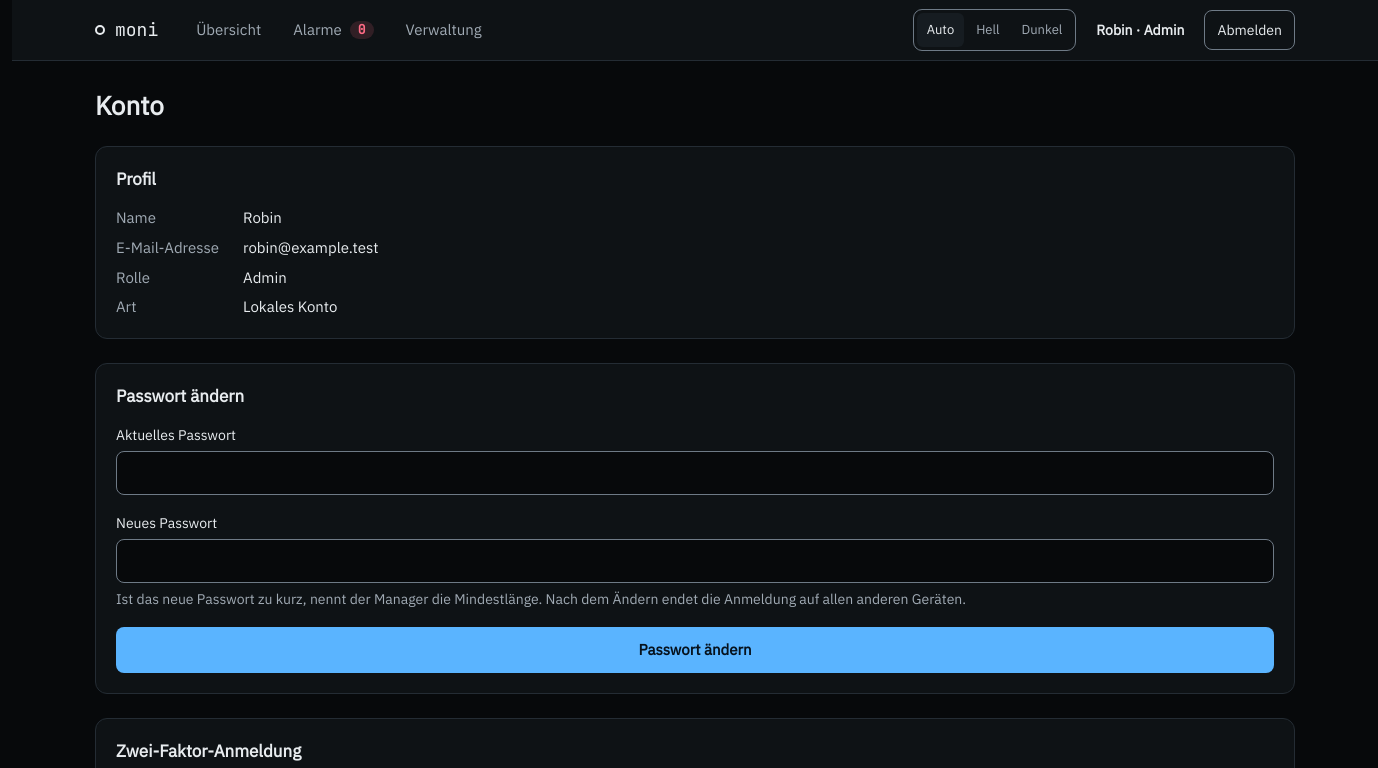
Test case: Konto › falsches aktuelles Passwort und zu kurzes neues zeigen den Fehlertext, keine Abmeldung
The width and height of the screenshot is (1378, 768).
Expected: the heading "Konto" is shown, [95, 88, 164, 122]
Type "falsch" into the password field labelled "Aktuelles Passwort".
click(695, 473); type("falsch")  # box [116, 451, 1274, 495]
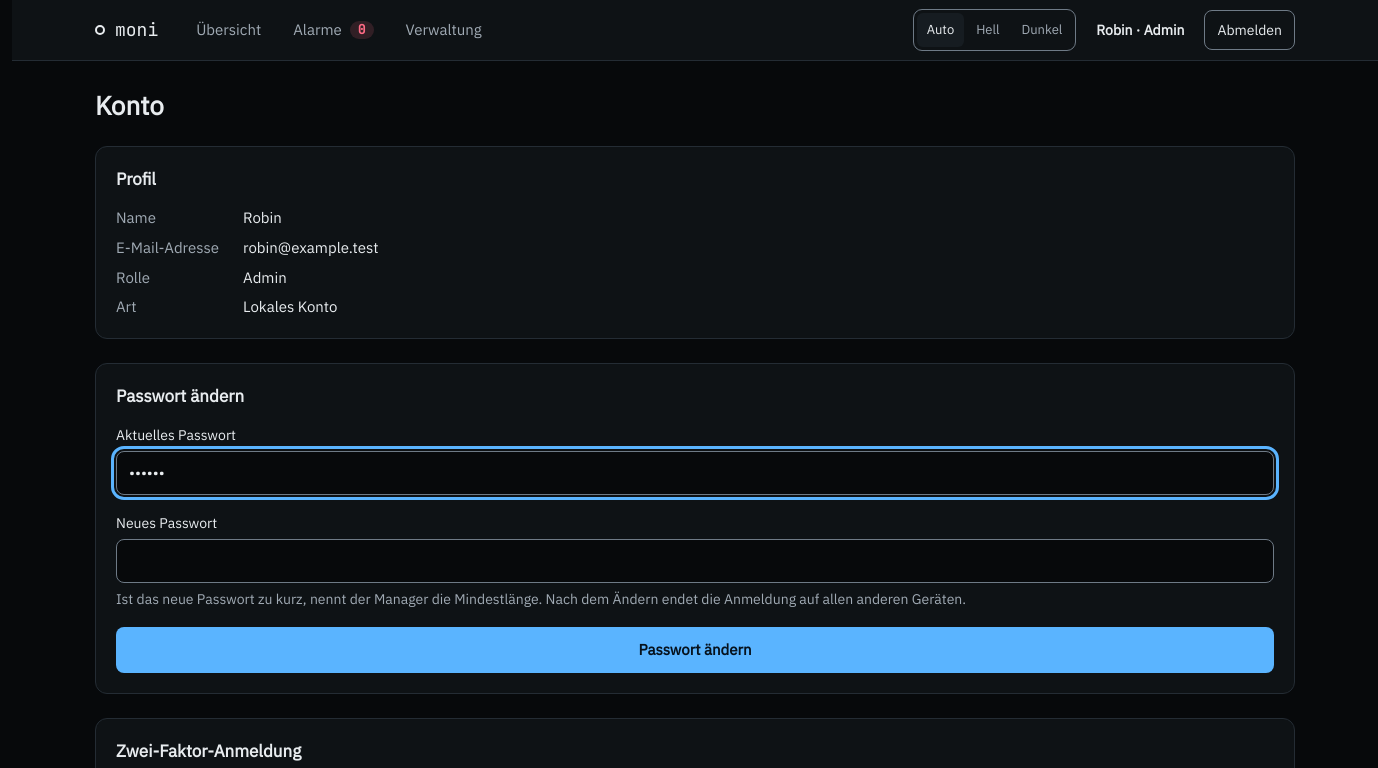
Type "neues-passwort-123" into the password field labelled "Neues Passwort".
click(695, 561); type("neues-passwort-123")  # box [116, 539, 1274, 583]
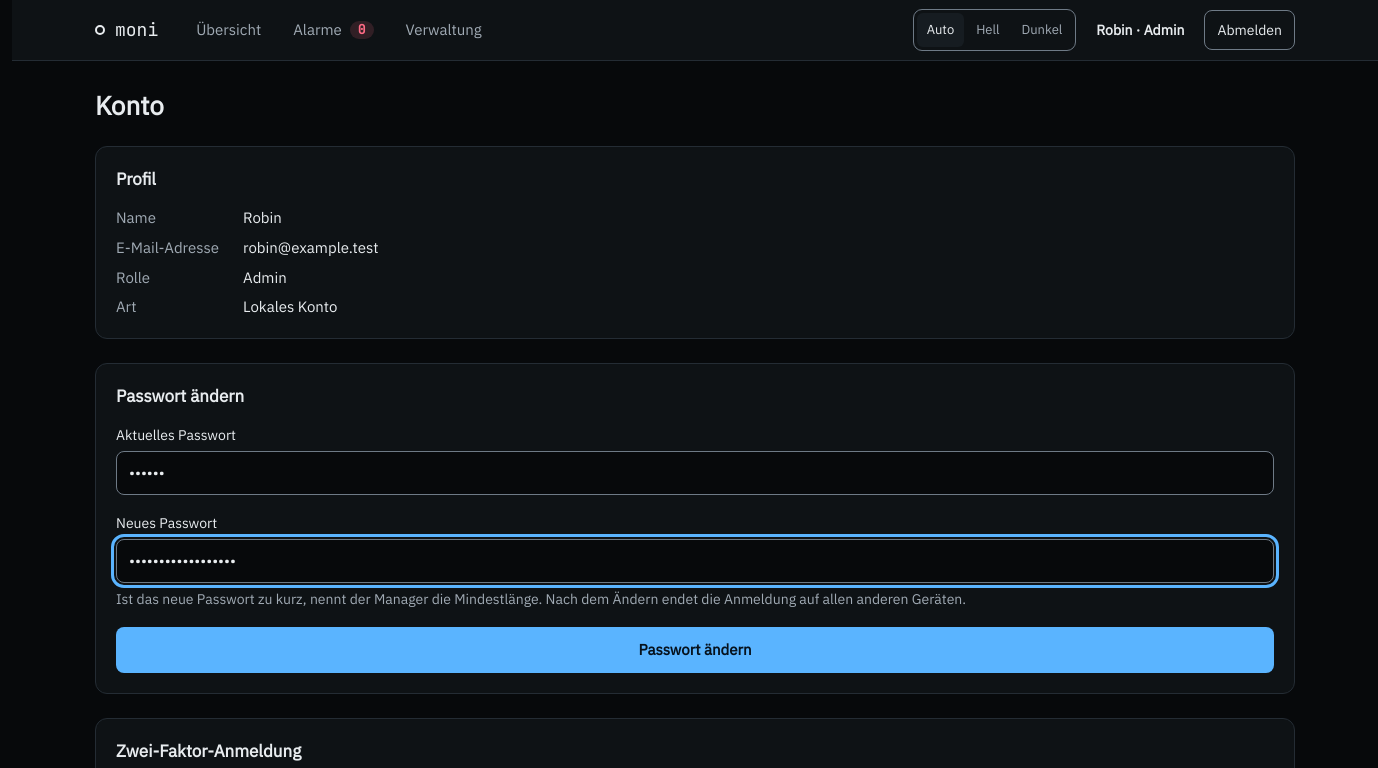
Click the button "Passwort ändern".
click(695, 650)  # box [116, 627, 1274, 673]
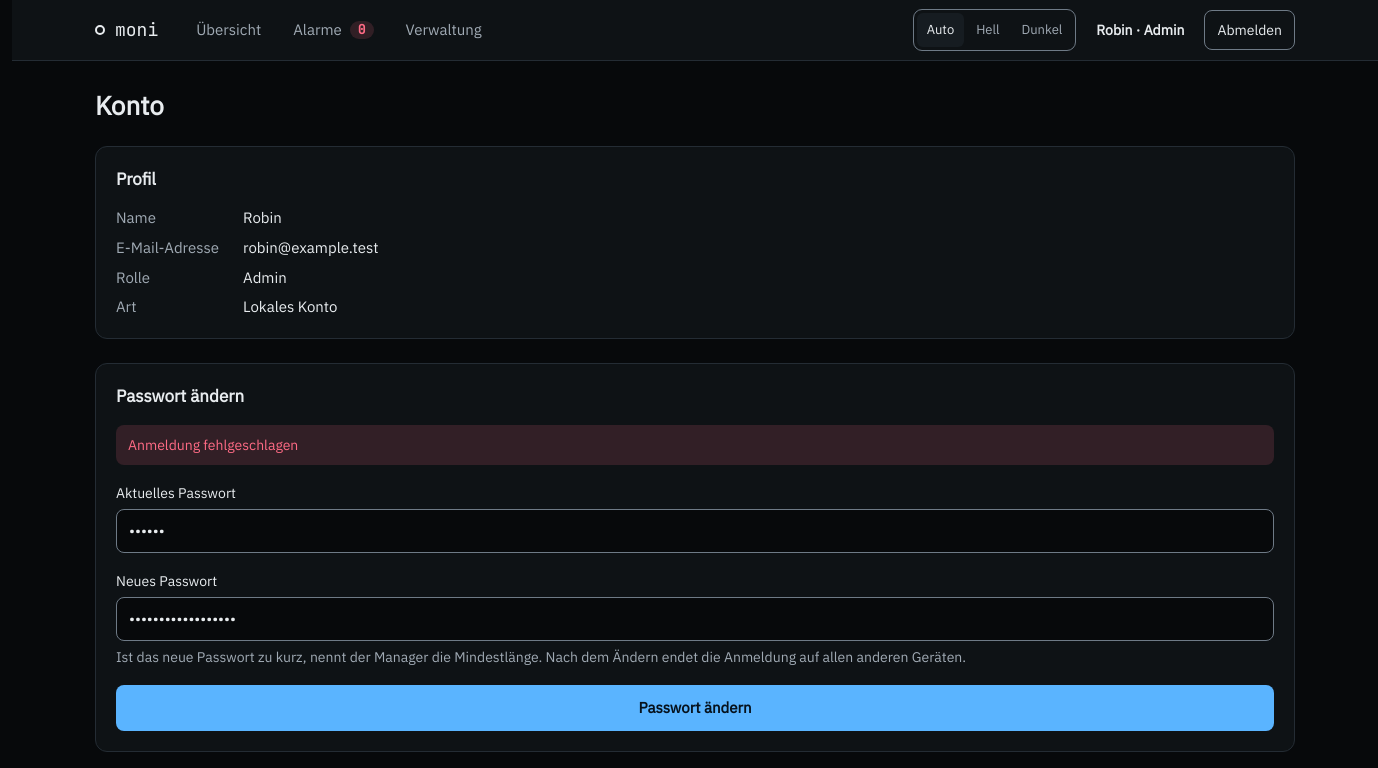
Expected: the text "Anmeldung fehlgeschlagen" is shown, [116, 425, 1274, 465]
Click the button "Passwort ändern".
click(695, 708)  # box [116, 685, 1274, 731]
(page scrolled)
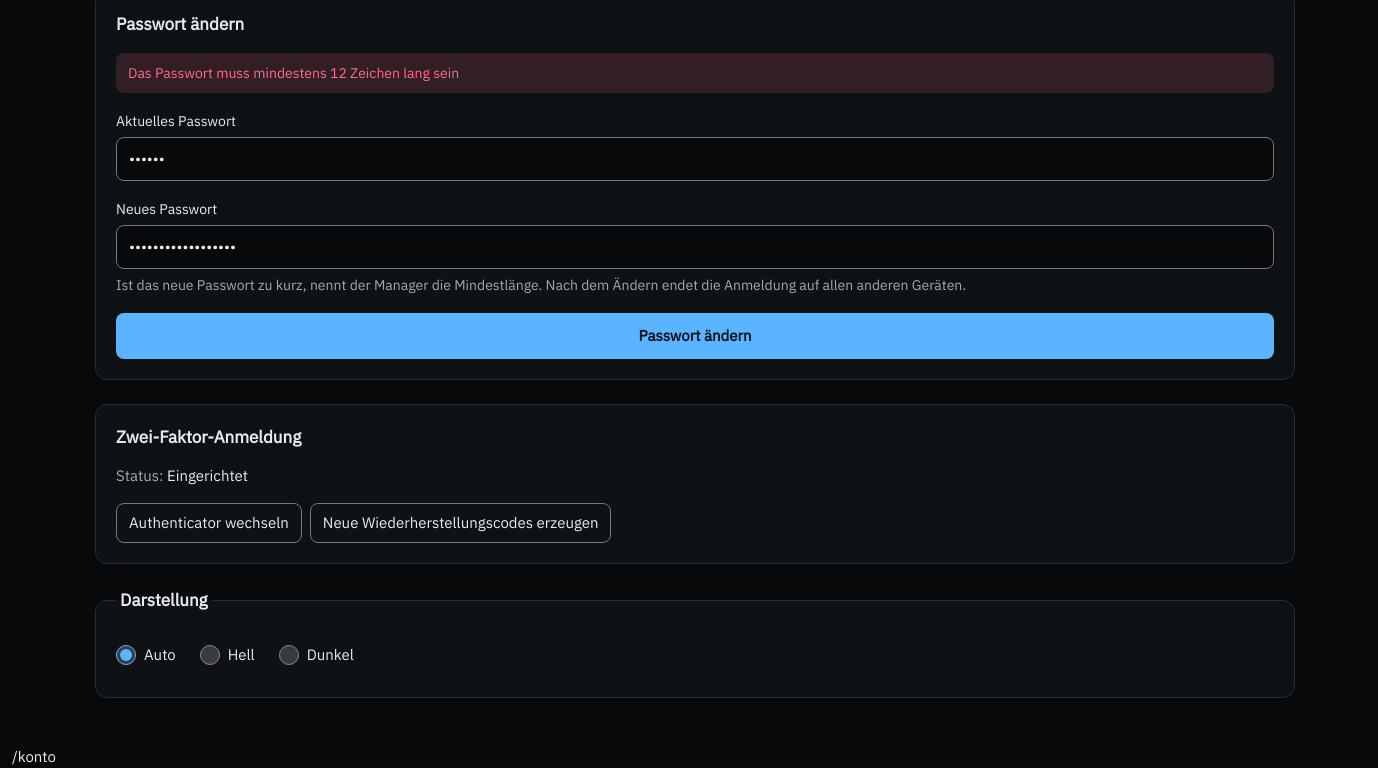
Expected: the text with test id "ort" reads "/konto", [12, 747, 56, 766]
Expected: the text "Das Passwort muss mindestens 12 Zeichen lang sein" is shown, [116, 53, 1274, 93]
